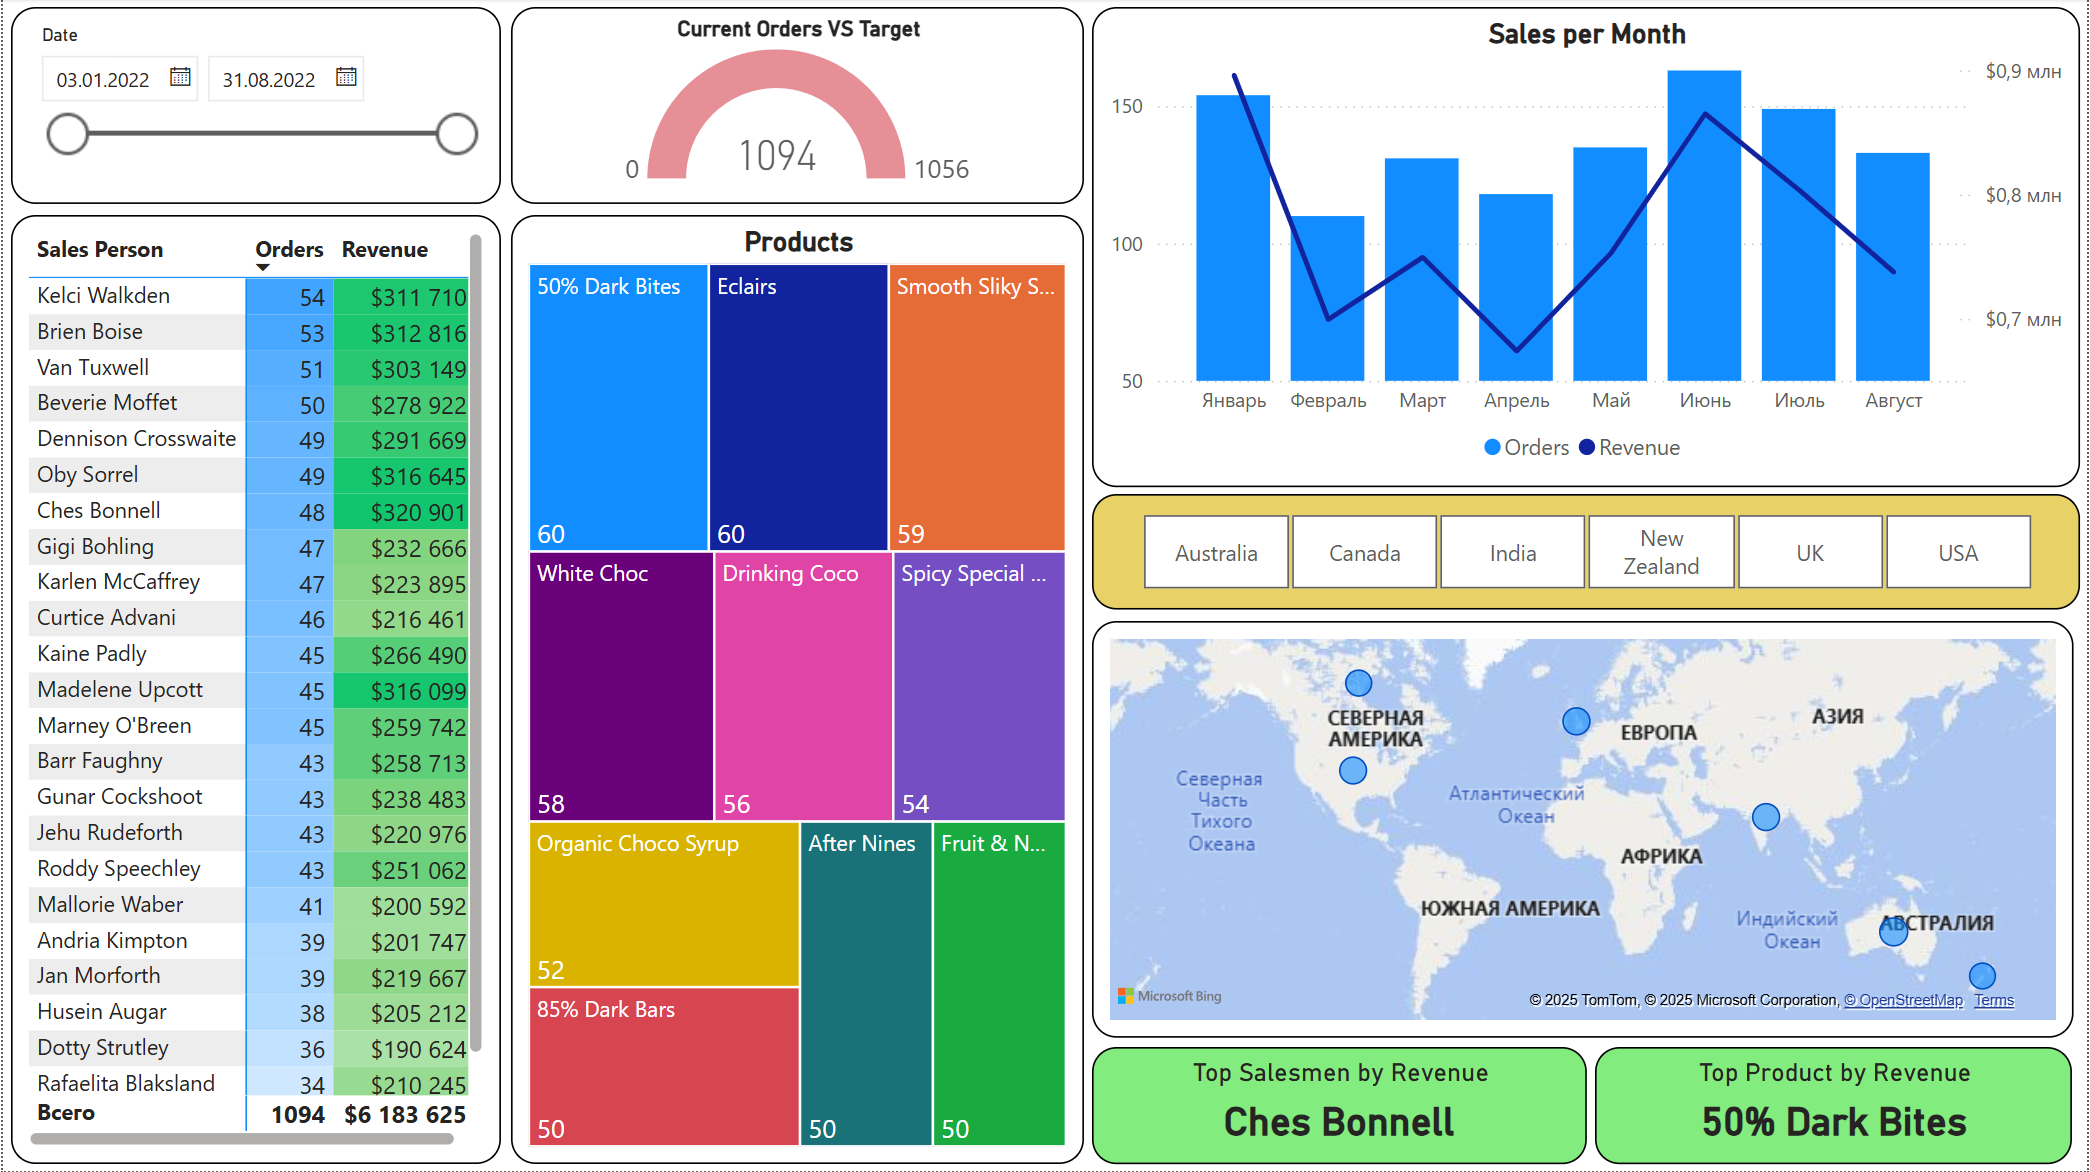

Layout of this report page (visuals, bound fields, positions):
{"tool":"powerbi","page":{"name":"Страница 1","canvas":[1280,720],"ordinal":0},"visuals":[{"type":"pivotTable","fields":{"Rows":["data.Sales Person"],"Values":["data.Orders","data.revenue"]},"box":[5,132.5,300.6,583.1],"z":0},{"type":"slicer","fields":{"Values":["data.Date"]},"box":[5,5,300.6,121.2],"z":1000},{"type":"treemap","title":"Products","fields":{"Group":["data.Product"],"Values":["data.Orders"]},"box":[311.9,132.5,351.9,583.1],"z":2000},{"type":"gauge","title":"Current Orders VS Target","fields":{"Y":["data.Orders"],"MaxValue":["Calendar.Orders_target"]},"box":[311.9,5,351.9,121.2],"z":3000},{"type":"lineStackedColumnComboChart","title":"Sales per Month","fields":{"Category":["Calendar.Start of Month.Изменение.Иерархия дат.Месяц"],"Y":["data.Orders"],"Y2":["data.Revenue"]},"box":[668.8,5,606.9,295],"z":4000},{"type":"map","title":"Sales","fields":{"Category":["data.Country"],"Size":["data.Revenue"]},"box":[668.8,381.9,602.5,256.2],"z":5000},{"type":"slicer","fields":{"Values":["data.Country"]},"box":[668.8,304.4,606.9,70.6],"z":5001},{"type":"card","title":"Top Salesmen by Revenue","fields":{"Values":["data.Sales Person"]},"box":[668.8,643.8,303.8,71.9],"z":5002},{"type":"card","title":"Top Product by Revenue","fields":{"Values":["data.Product"]},"box":[978.1,643.8,293.1,71.9],"z":5003}]}

Visuals, with their boxes in screenshot pixels (x1, y1, x2, y2), scaled from the page's 1280x720 canvas onto the 2090x1172 screenshot:
pivotTable - data.Sales Person x data.Orders: 8,216,499,1165
slicer - data.Date: 8,8,499,205
"Products" treemap: 509,216,1084,1165
"Current Orders VS Target" gauge: 509,8,1084,205
"Sales per Month" lineStackedColumnComboChart: 1092,8,2083,488
"Sales" map: 1092,622,2076,1039
slicer - data.Country: 1092,495,2083,610
"Top Salesmen by Revenue" card: 1092,1048,1588,1165
"Top Product by Revenue" card: 1597,1048,2076,1165
